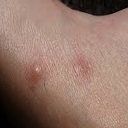Hives: (28, 64, 49, 80)
